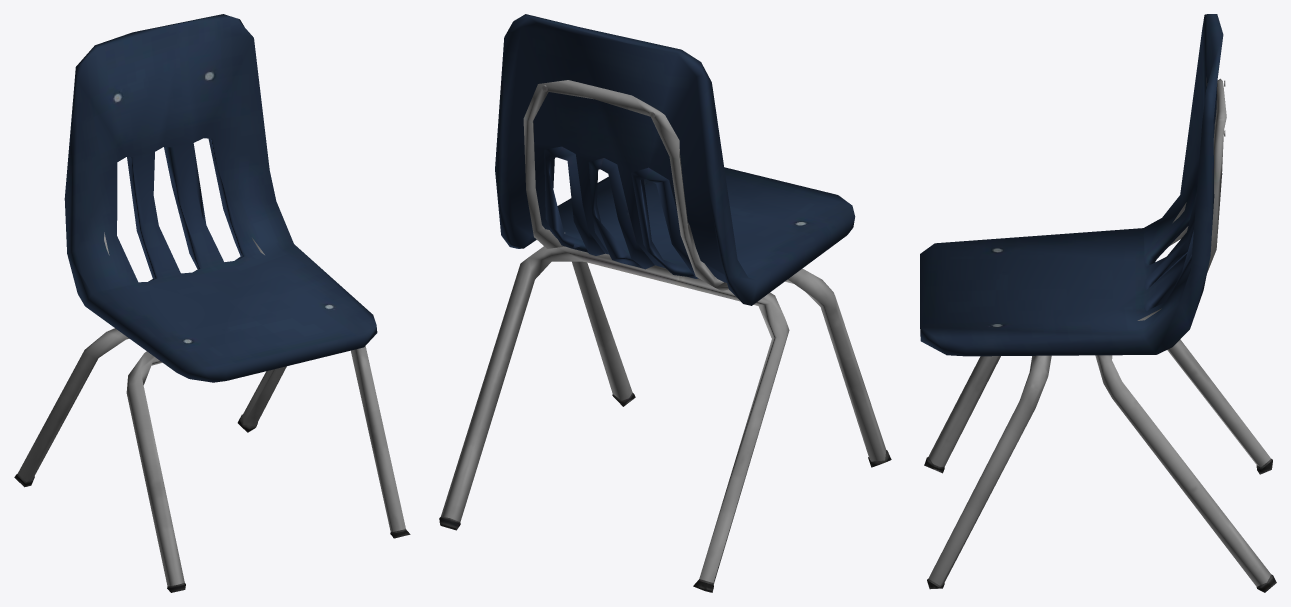
Rendered from SchoolChair_01.glb.
3 renders of one model, left to right at view 1: azimuth 30°, elevation 25°; view 2: azimuth 150°, elevation 25°; view 3: azimuth 270°, elevation 25°, orthographic. The views are drawn at different scales.
Parts seen in each view (by area): view 1: SchoolChair_01; view 2: SchoolChair_01; view 3: SchoolChair_01.
Part boxes in pixels (x1=…): SchoolChair_01: x1=14, y1=14, x2=410, y2=592; SchoolChair_01: x1=439, y1=14, x2=891, y2=592; SchoolChair_01: x1=920, y1=14, x2=1276, y2=592.
Size of the model in its own units: 0.5658 by 1 by 0.6692.
1 material, 1 textured.
